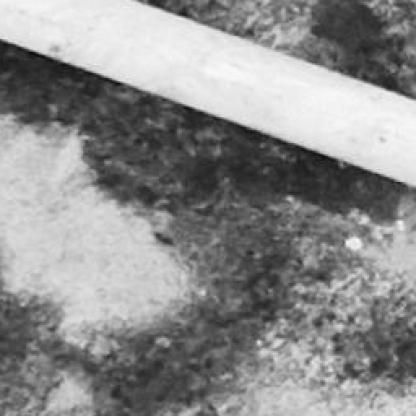PVC: (0, 3, 414, 188)
